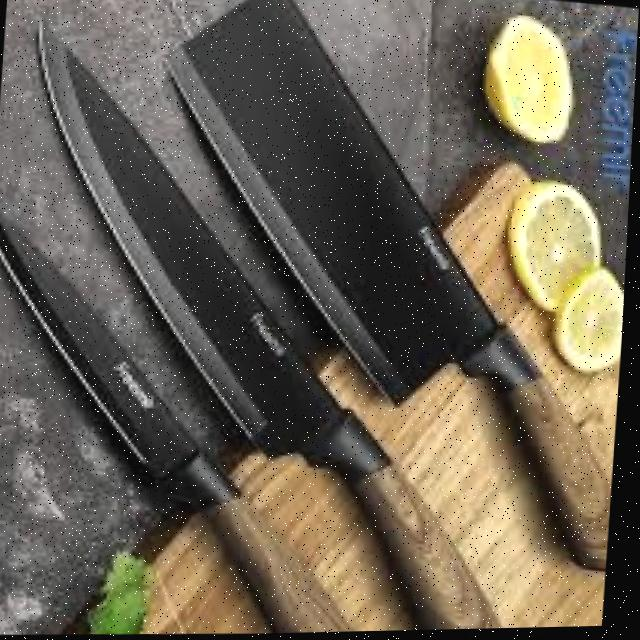knife: (0, 4, 544, 640), (127, 0, 640, 587), (0, 193, 392, 640)
